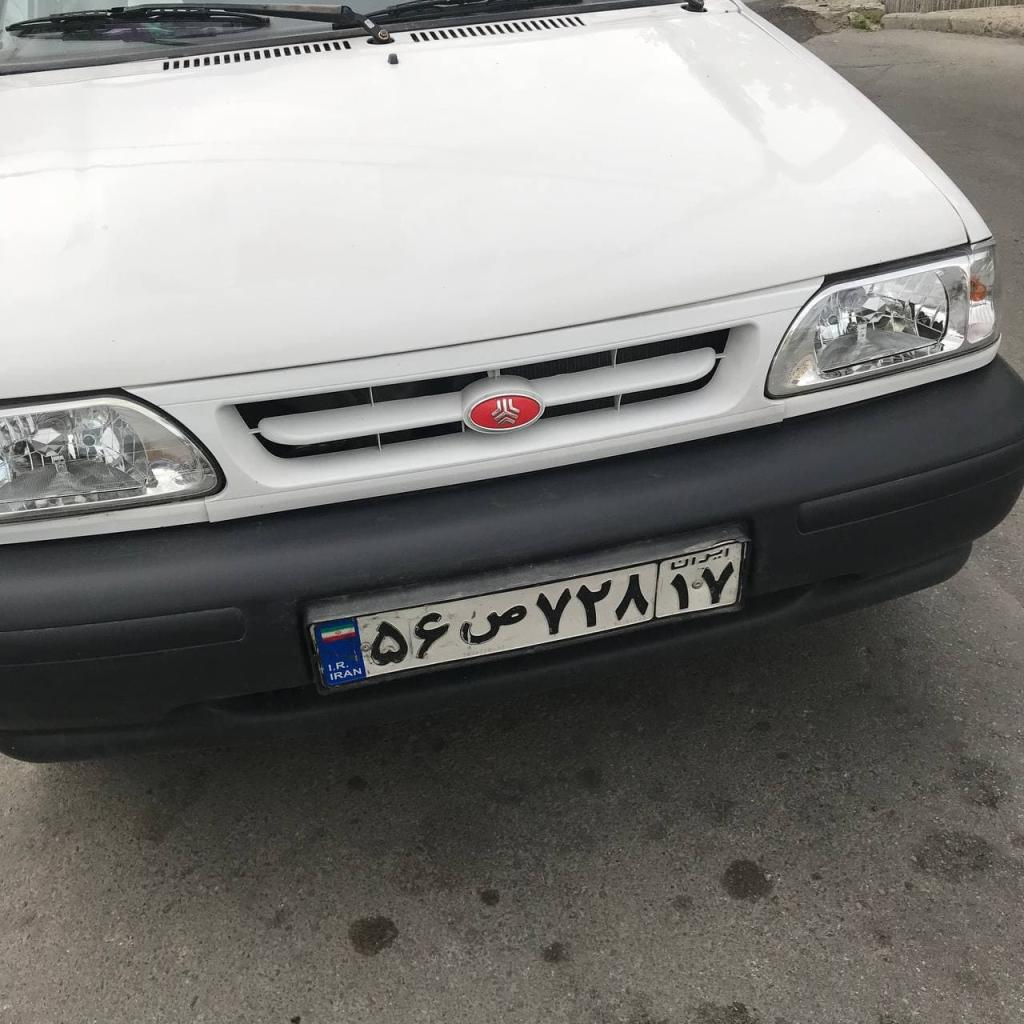Plates: (310, 541, 743, 688)
